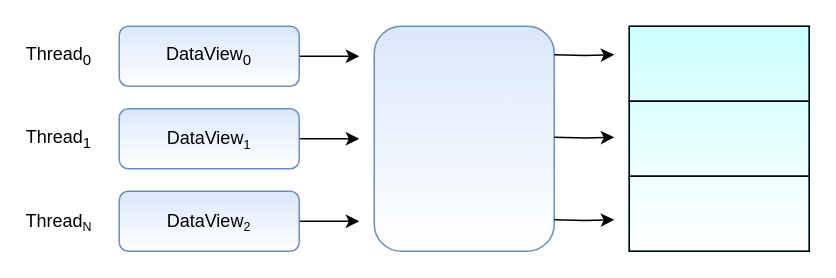
Image size: 836x278. Some labels were removed from this diagram. Each missing label, with the box of its shape:
DataArray: (373, 25, 554, 251)
Device 0: (628, 25, 809, 251)
